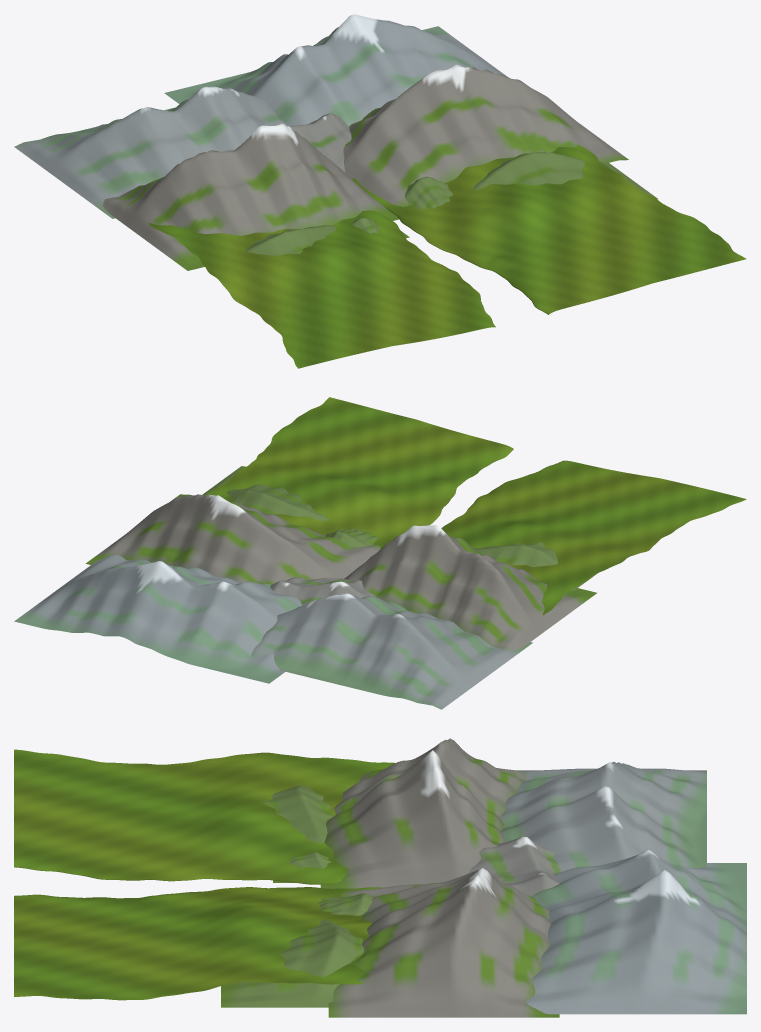
The model's file is alpine-terrain-v1b-mobile.glb.
3 renders of one model, top to bottom at view 1: azimuth 30°, elevation 25°; view 2: azimuth 150°, elevation 25°; view 3: azimuth 270°, elevation 25°, orthographic. The views are drawn at different scales.
Parts seen in each view (by area): view 1: east-bank, west-bank, east-alpine-massif, west-alpine-massif, distant-east, distant-west, east-meadow-shoulder, middle-saddle, west-meadow-shoulder, valley-east-foothill; view 2: east-bank, west-bank, distant-east, distant-west, west-alpine-massif, east-alpine-massif, east-meadow-shoulder, middle-saddle, west-meadow-shoulder, valley-east-foothill; view 3: west-bank, east-bank, distant-east, east-alpine-massif, west-alpine-massif, distant-west, east-meadow-shoulder, middle-saddle, west-meadow-shoulder, valley-east-foothill, valley-west-foothill.
Part boxes in pixels (left/top/right/bottom): east-bank: left=352, top=144, right=746, bottom=314; west-bank: left=148, top=210, right=495, bottom=368; east-alpine-massif: left=343, top=64, right=628, bottom=206; west-alpine-massif: left=103, top=123, right=398, bottom=270; distant-east: left=164, top=14, right=507, bottom=126; distant-west: left=14, top=86, right=288, bottom=218; east-meadow-shoulder: left=473, top=152, right=657, bottom=199; middle-saddle: left=287, top=113, right=351, bottom=172; west-meadow-shoulder: left=246, top=225, right=335, bottom=255; valley-east-foothill: left=405, top=176, right=452, bottom=209; east-bank: left=205, top=397, right=513, bottom=549; west-bank: left=441, top=460, right=746, bottom=614; distant-east: left=14, top=554, right=301, bottom=683; distant-west: left=251, top=593, right=532, bottom=709; west-alpine-massif: left=344, top=525, right=596, bottom=650; east-alpine-massif: left=85, top=494, right=380, bottom=584; east-meadow-shoulder: left=202, top=466, right=329, bottom=520; middle-saddle: left=270, top=577, right=375, bottom=605; west-meadow-shoulder: left=472, top=541, right=597, bottom=590; valley-east-foothill: left=325, top=528, right=377, bottom=547; west-bank: left=14, top=749, right=395, bottom=884; east-bank: left=14, top=887, right=382, bottom=1000; distant-east: left=526, top=849, right=746, bottom=1014; east-alpine-massif: left=328, top=868, right=559, bottom=1017; west-alpine-massif: left=320, top=738, right=526, bottom=888; distant-west: left=500, top=761, right=706, bottom=879; east-meadow-shoulder: left=221, top=919, right=363, bottom=1007; middle-saddle: left=467, top=836, right=562, bottom=896; west-meadow-shoulder: left=262, top=785, right=332, bottom=843; valley-east-foothill: left=318, top=893, right=373, bottom=915; valley-west-foothill: left=273, top=852, right=330, bottom=882.
Bounding box in the file's own units: 154 × 24.75 × 184.
